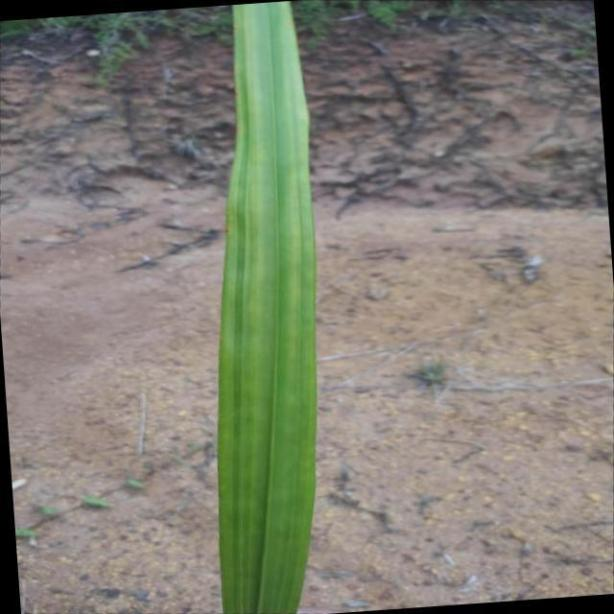nitrogen: (221, 0, 316, 614)
